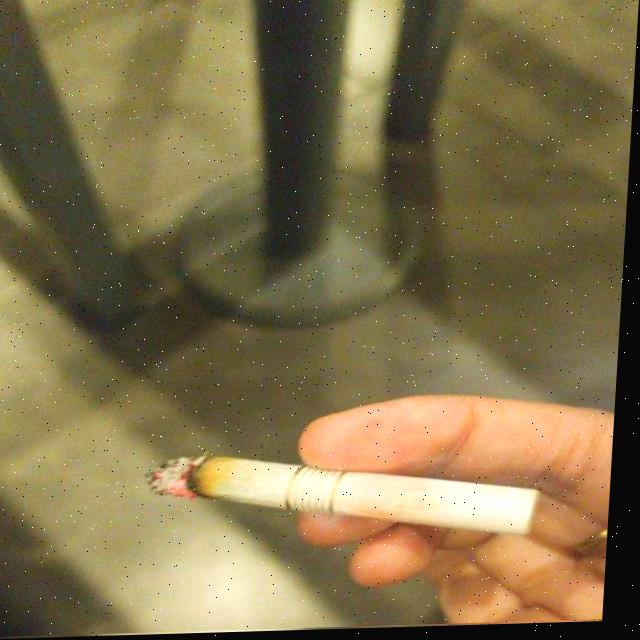cigarette: (147, 447, 550, 548)
